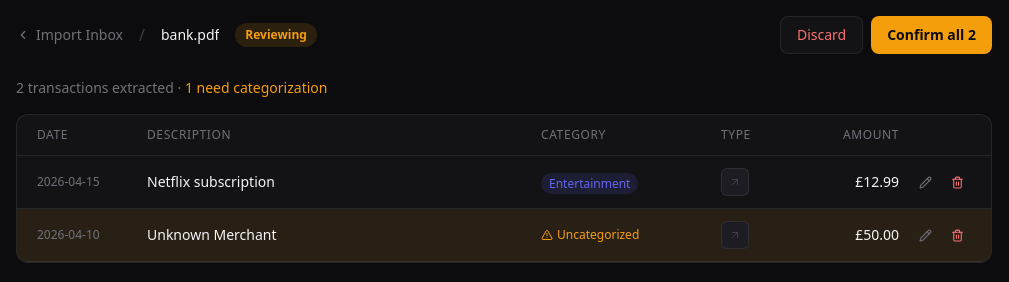
Test: BatchReviewClient › inline editing › enters edit mode when pencil button is clicked
The width and height of the screenshot is (1009, 282).
Click the button named "Edit transaction" next to "12.99".
click(925, 182)  # box left=911, top=168, right=939, bottom=196
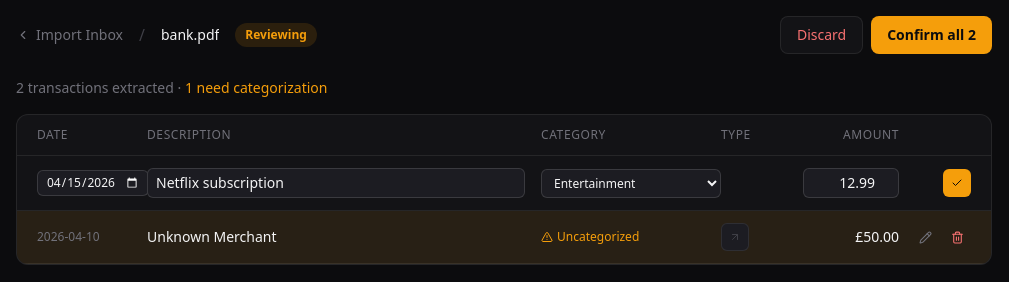
expect the field showing "Netflix subscription" is shown: met, box left=147, top=168, right=525, bottom=198
